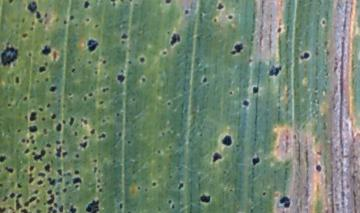tarspot: (1, 46, 18, 66), (85, 200, 101, 213), (267, 63, 281, 76), (277, 195, 291, 208), (169, 32, 181, 47), (87, 39, 99, 53), (231, 43, 244, 55), (32, 150, 46, 161), (40, 44, 52, 56), (198, 193, 211, 203), (27, 1, 37, 13), (24, 196, 37, 205), (46, 194, 54, 208), (222, 135, 232, 146), (212, 152, 222, 163), (251, 155, 260, 167), (16, 193, 22, 211), (300, 52, 310, 60), (117, 73, 125, 83), (28, 125, 38, 133), (29, 111, 37, 121), (44, 161, 51, 172), (138, 55, 146, 64), (38, 66, 47, 74), (13, 75, 21, 84), (79, 141, 88, 149), (73, 177, 82, 185), (47, 177, 56, 185), (56, 145, 62, 157), (252, 85, 259, 95), (217, 2, 225, 10), (242, 99, 250, 107), (139, 75, 147, 83), (69, 205, 77, 213), (315, 164, 322, 173), (5, 166, 14, 173), (21, 32, 29, 39), (83, 1, 90, 9), (320, 18, 327, 26), (121, 32, 129, 39), (25, 50, 33, 57), (49, 85, 57, 92), (102, 84, 109, 92), (98, 133, 107, 139), (37, 171, 46, 177), (69, 117, 75, 126), (29, 173, 34, 183), (201, 76, 208, 83), (161, 49, 168, 56), (22, 95, 29, 102), (177, 182, 184, 189), (9, 206, 16, 213), (64, 179, 71, 186), (151, 179, 157, 187), (56, 124, 62, 132), (57, 168, 63, 176), (42, 127, 47, 136), (35, 12, 41, 19), (21, 16, 27, 23), (276, 26, 282, 33), (228, 89, 234, 96), (120, 39, 127, 45), (166, 198, 172, 205), (117, 131, 123, 138), (1, 155, 7, 162), (33, 188, 39, 195), (38, 178, 44, 185), (81, 119, 88, 125), (323, 40, 329, 47), (97, 100, 105, 105), (59, 205, 64, 213), (64, 172, 72, 177), (29, 26, 35, 32), (111, 1, 117, 7), (184, 9, 190, 15), (101, 59, 107, 65), (43, 61, 49, 67), (71, 67, 77, 73), (156, 149, 162, 155), (167, 144, 173, 150), (126, 139, 132, 145), (88, 91, 94, 97), (2, 196, 8, 202), (90, 128, 96, 134), (34, 78, 40, 84), (68, 15, 75, 20), (62, 18, 67, 25), (67, 92, 74, 97), (118, 202, 123, 209), (115, 112, 120, 119), (10, 192, 15, 199), (46, 189, 53, 194), (50, 114, 57, 119), (164, 1, 172, 5), (39, 18, 44, 24), (44, 12, 49, 18), (30, 20, 36, 25), (84, 17, 90, 22), (213, 17, 218, 23), (227, 14, 233, 19), (126, 59, 132, 64), (44, 76, 49, 82), (262, 190, 267, 196), (166, 101, 172, 106), (137, 185, 142, 191), (82, 95, 87, 101), (1, 207, 6, 213), (17, 182, 22, 188), (22, 208, 28, 213), (30, 166, 35, 172), (24, 149, 30, 154), (39, 107, 45, 112), (46, 143, 52, 148), (83, 135, 89, 140), (74, 170, 80, 175), (57, 178, 63, 183), (101, 118, 107, 123), (198, 132, 203, 138), (73, 23, 79, 28), (325, 50, 330, 56), (144, 186, 148, 193), (21, 137, 25, 144), (48, 206, 52, 213), (94, 23, 99, 28), (87, 59, 92, 64), (7, 103, 12, 108), (171, 204, 176, 209), (161, 131, 166, 136), (41, 116, 46, 121), (75, 184, 80, 189), (62, 152, 67, 157), (56, 140, 61, 145), (131, 97, 136, 102), (249, 208, 254, 213), (57, 98, 62, 103), (248, 58, 253, 63), (8, 1, 14, 5), (99, 187, 103, 193), (36, 209, 42, 213), (55, 192, 61, 196), (75, 129, 78, 137), (62, 139, 66, 145), (95, 70, 99, 75), (31, 140, 36, 144), (46, 103, 51, 107), (93, 159, 98, 163), (54, 203, 58, 208), (63, 188, 67, 193), (76, 154, 80, 159), (229, 188, 233, 193), (24, 169, 29, 173), (120, 69, 125, 73), (315, 51, 319, 56), (18, 128, 21, 134), (94, 167, 97, 173), (25, 115, 28, 121), (26, 139, 30, 143), (30, 135, 34, 139), (37, 199, 41, 203), (98, 178, 101, 183), (53, 210, 58, 213), (33, 147, 38, 150), (1, 182, 3, 188), (63, 120, 66, 124), (49, 150, 52, 154)
